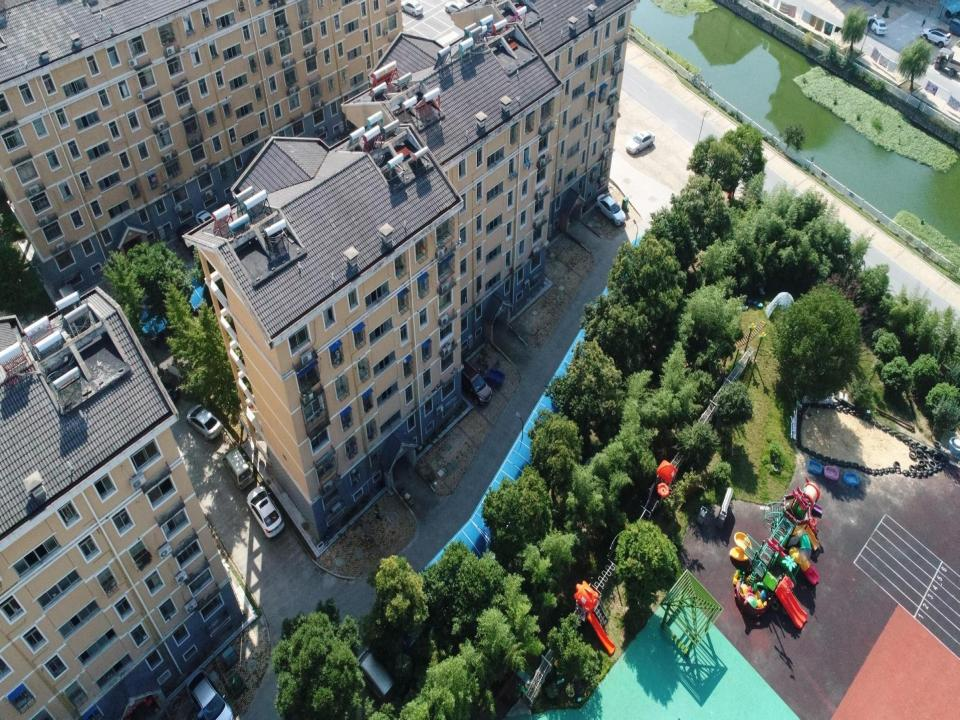car: (186, 670, 232, 720), (246, 487, 285, 538), (455, 361, 492, 406), (186, 404, 223, 442), (596, 194, 626, 225), (176, 223, 198, 255), (151, 379, 179, 404), (626, 130, 655, 154), (920, 27, 951, 48), (866, 16, 888, 36), (195, 210, 216, 230), (400, 0, 423, 17), (445, 1, 467, 15)
van: (355, 646, 395, 700), (222, 447, 255, 491)
